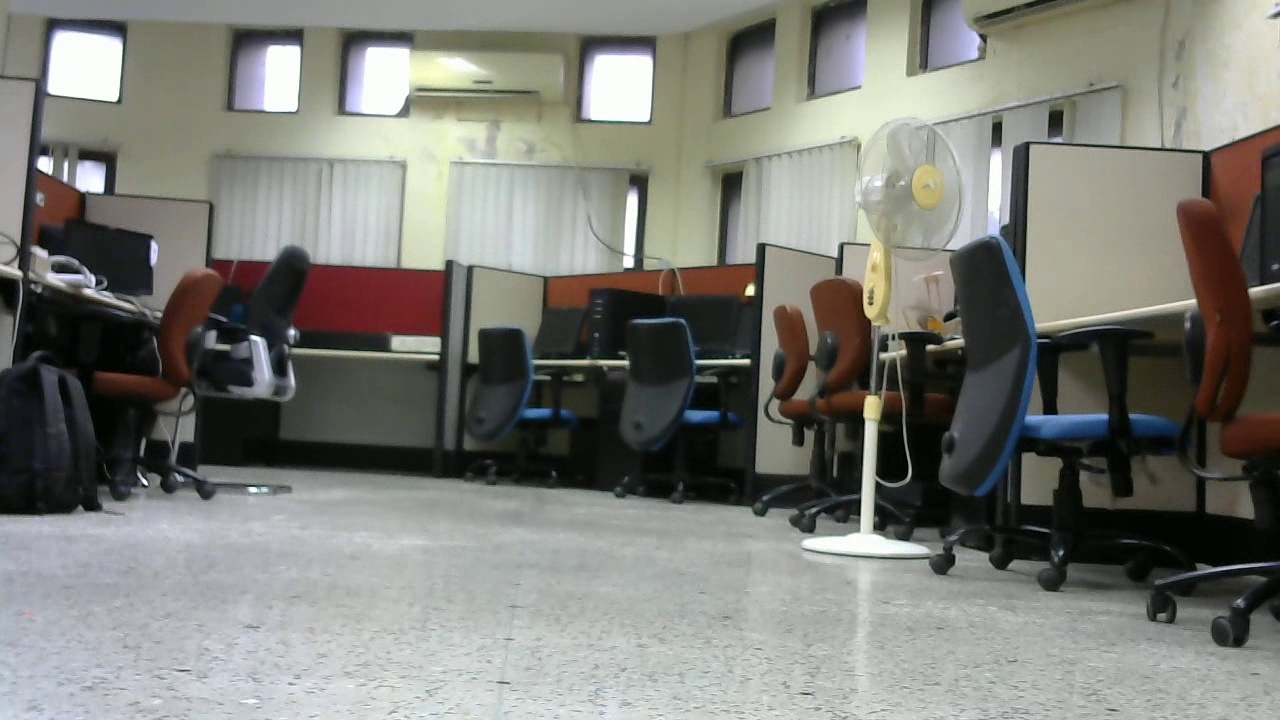chair: (901, 233, 1183, 590), (755, 276, 959, 533), (1162, 198, 1280, 642), (58, 253, 224, 498), (601, 317, 755, 507), (197, 243, 313, 495), (449, 325, 583, 493)
